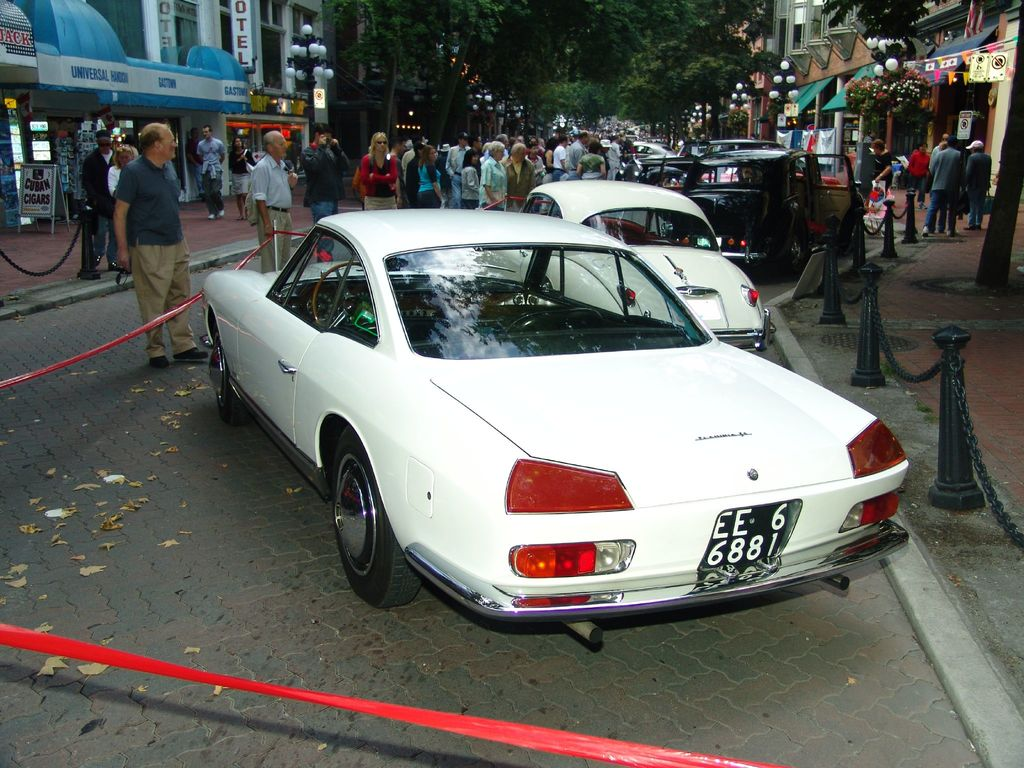Car: (197, 130, 919, 649)
